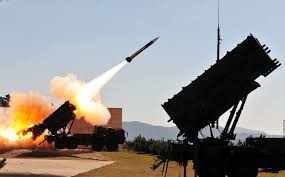ten_lua: (118, 34, 161, 72)
